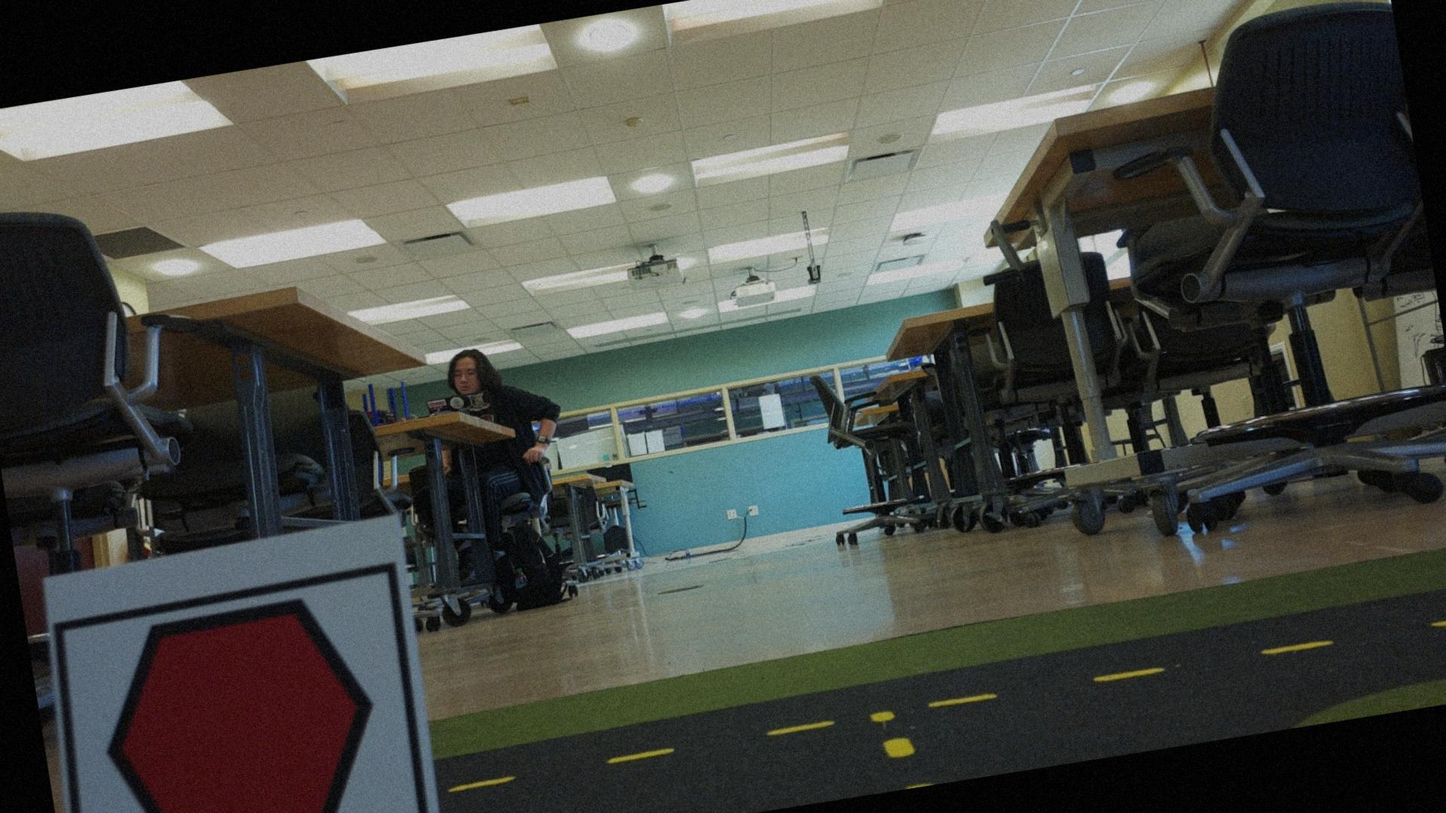stop: (58, 571, 438, 812)
yellowline: (450, 605, 1445, 791), (865, 705, 923, 766)
